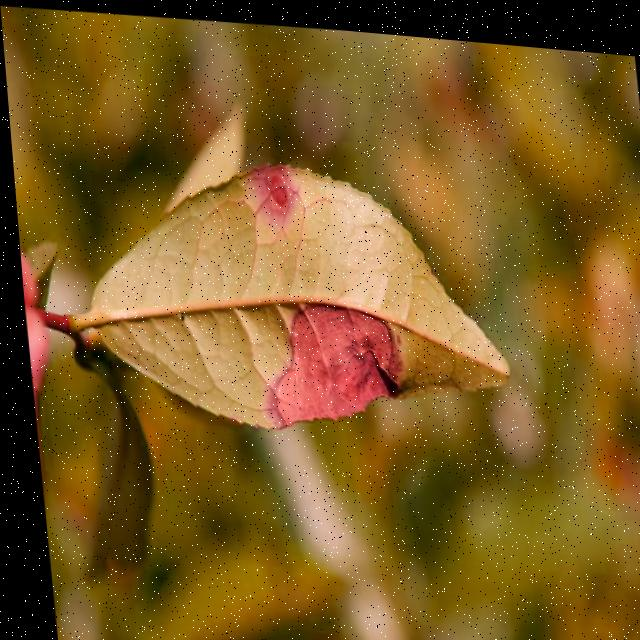Tea cloud leaf blight: (266, 283, 400, 431), (236, 149, 302, 223)
